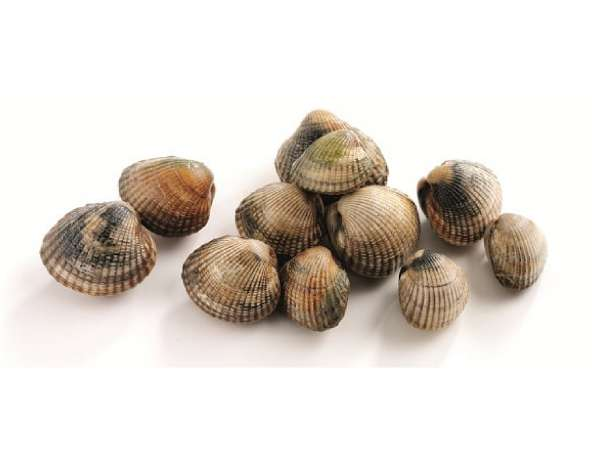cockle: (33, 200, 162, 300), (273, 106, 395, 184), (180, 233, 282, 324), (326, 183, 422, 277), (117, 156, 215, 237), (418, 158, 502, 246), (235, 179, 324, 253), (279, 245, 351, 332), (398, 249, 472, 333), (291, 127, 374, 197), (484, 210, 549, 299)
